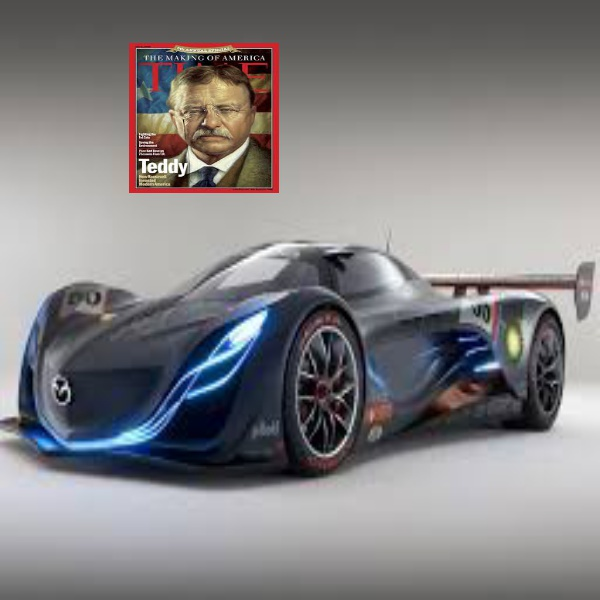time_cover: (124, 32, 289, 201)
